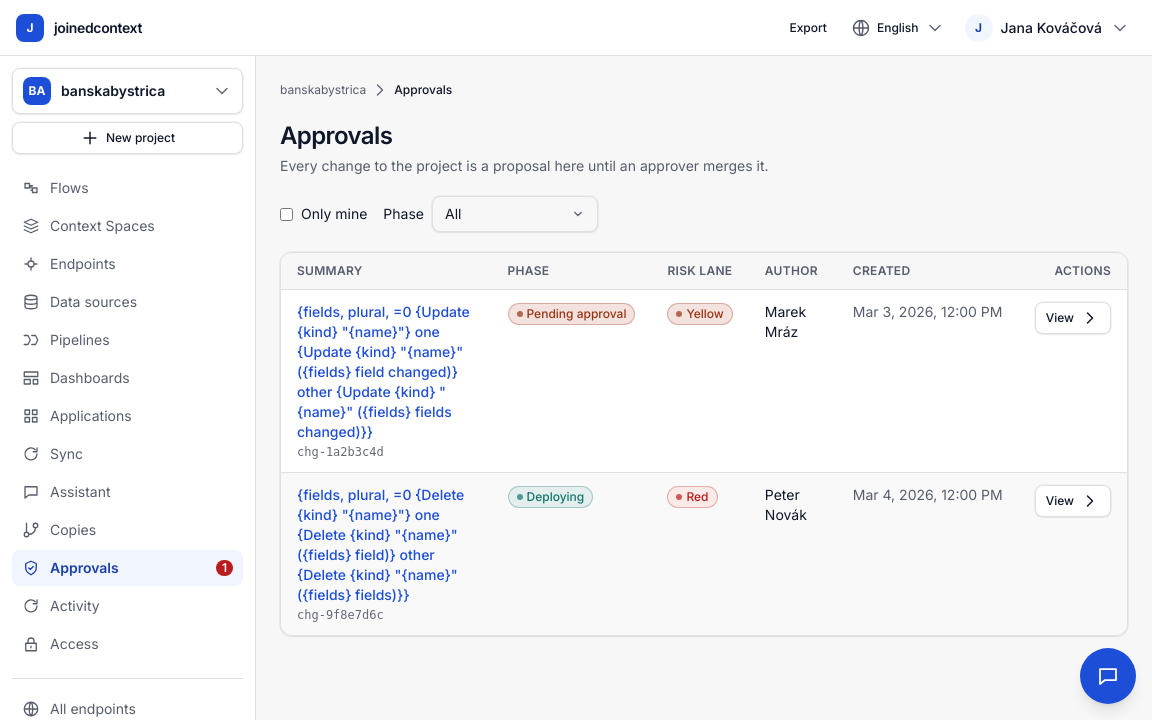
Test: pending approvals view › narrows the list to one phase, and says so when nothing is left
Select "Deploying" in the dropdown labelled "Phase": (515, 214) 432,196 -> 598,232
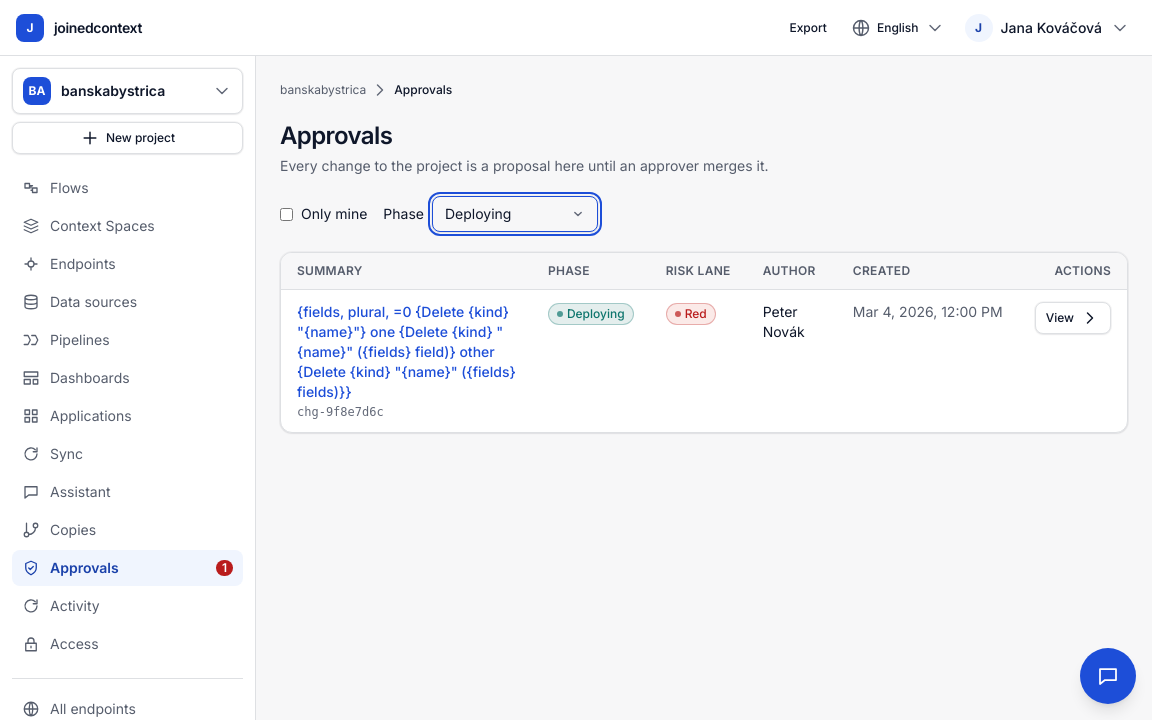
Check: the text "chg-9f8e7d6c" is shown, box 297,405 -> 384,419
Check: the text "chg-1a2b3c4d" is gone
Click the checkbox labelled "Only mine": (286, 214) 280,208 -> 293,220
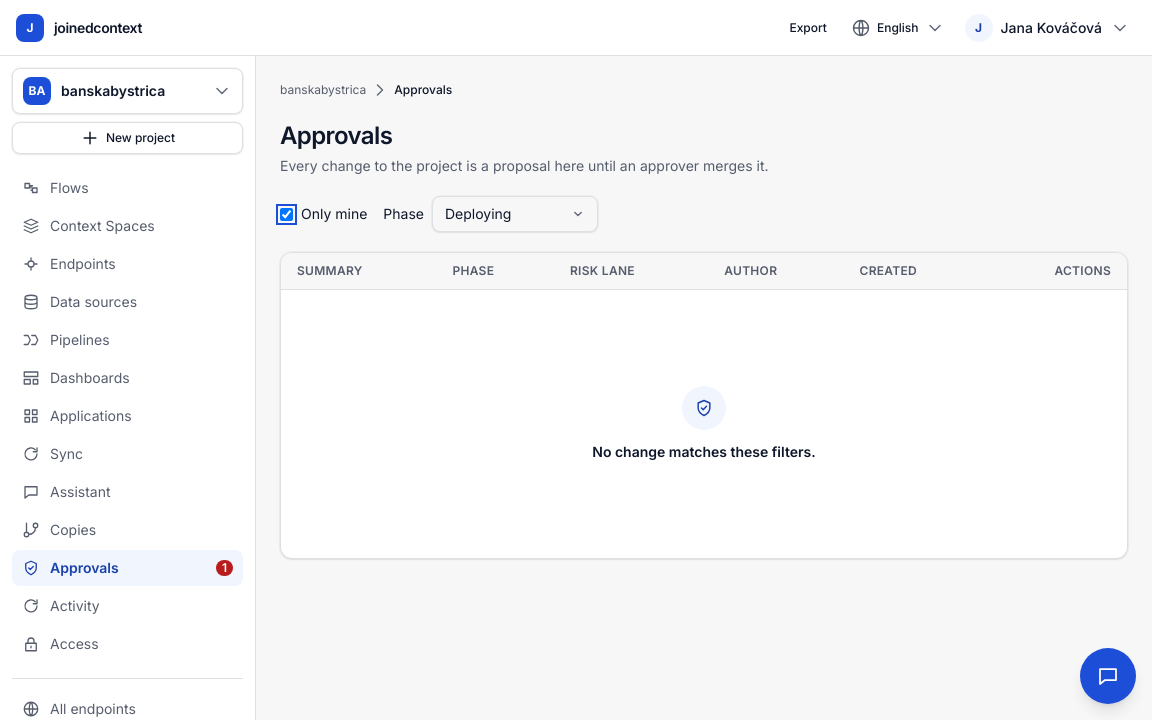
Check: the checkbox labelled "Only mine" is checked, box 280,208 -> 293,220
Check: the text "No change matches these filters." is shown, box 592,442 -> 816,462
